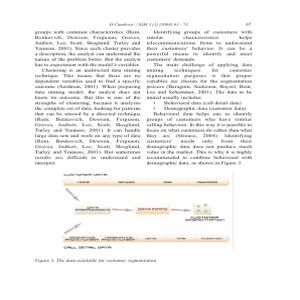diagram: (55, 170, 233, 250)
text: (30, 28, 142, 166), (144, 29, 255, 167)
